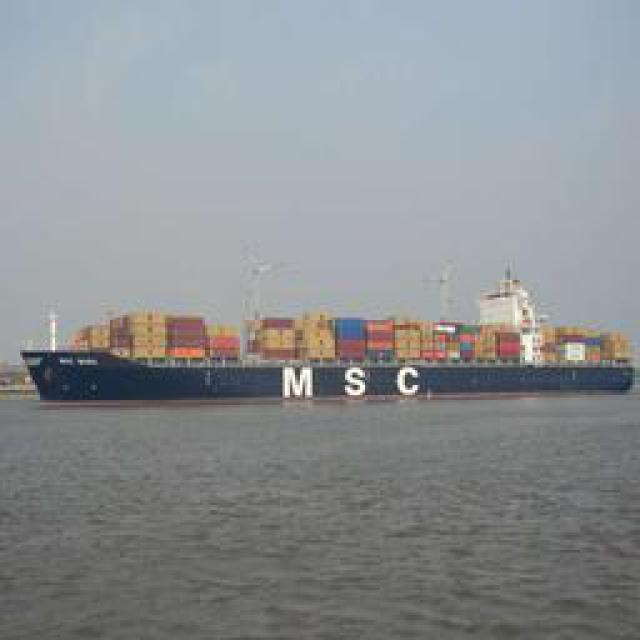Ship: (20, 295, 628, 400)
